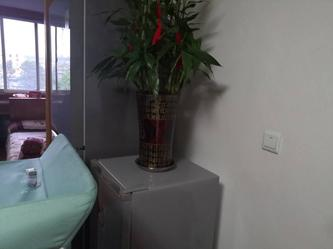switch: (261, 132, 279, 152)
